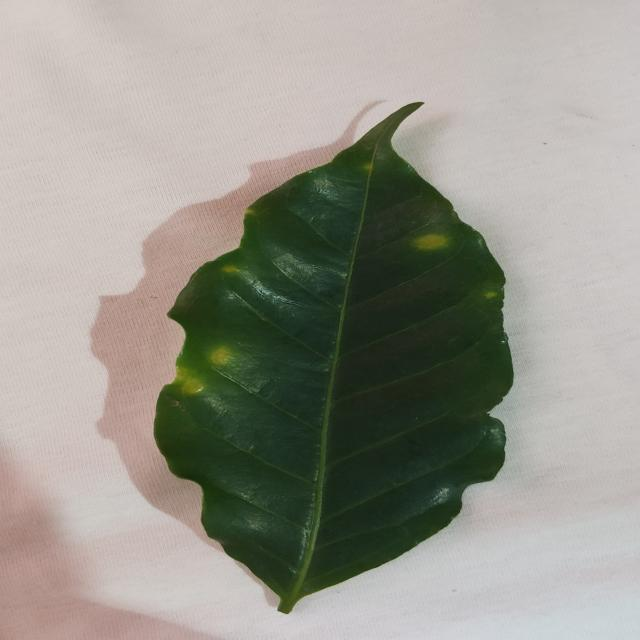Enfermedad-Roya: (151, 103, 515, 616)
